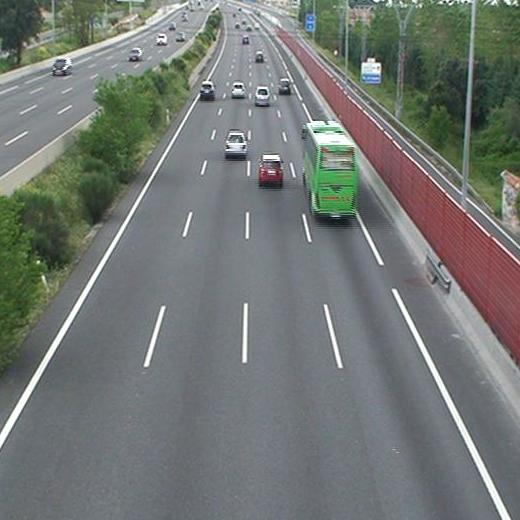bus: (303, 121, 358, 217)
car: (258, 155, 284, 183), (224, 131, 248, 155), (255, 87, 271, 105), (200, 80, 215, 96), (231, 82, 245, 97), (278, 79, 291, 92), (255, 51, 265, 61), (241, 36, 249, 44)
